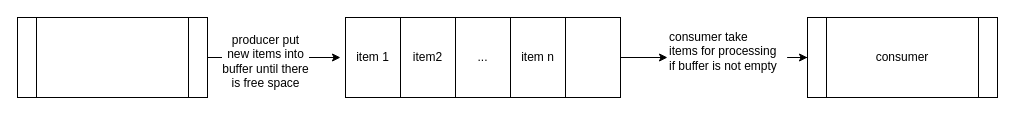
Image size: 1015x115. Some labels were removed from this diagram. Each missing label, with the centre of its shape:
"free cell" goes at pixel 592 57.
"producer" goes at pixel 112 57.
